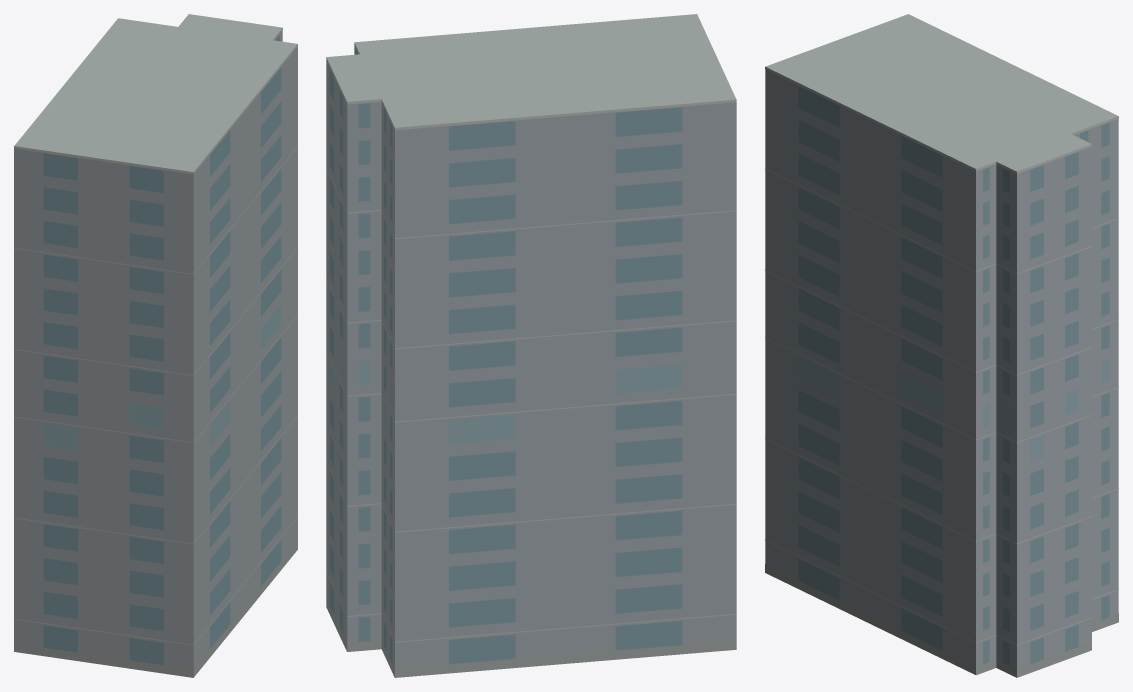
The model's file is residential-3fd16de4-3e52-421c-a31f-c7e295a2d8e2.glb.
3 renders of one model, left to right at view 1: azimuth 30°, elevation 25°; view 2: azimuth 150°, elevation 25°; view 3: azimuth 270°, elevation 25°, orthographic. The views are drawn at different scales.
Visible parts, largest first — view 1: residential-3fd16de4-3e52-421c-a31f-c7e295a2d8e2.tmp; view 2: residential-3fd16de4-3e52-421c-a31f-c7e295a2d8e2.tmp; view 3: residential-3fd16de4-3e52-421c-a31f-c7e295a2d8e2.tmp.
Part boxes in pixels (left/top/right/bottom): residential-3fd16de4-3e52-421c-a31f-c7e295a2d8e2.tmp: left=14, top=14, right=297, bottom=677; residential-3fd16de4-3e52-421c-a31f-c7e295a2d8e2.tmp: left=326, top=14, right=736, bottom=677; residential-3fd16de4-3e52-421c-a31f-c7e295a2d8e2.tmp: left=765, top=14, right=1118, bottom=677.
Size of the model in its own units: 34.09 by 51 by 32.3.
